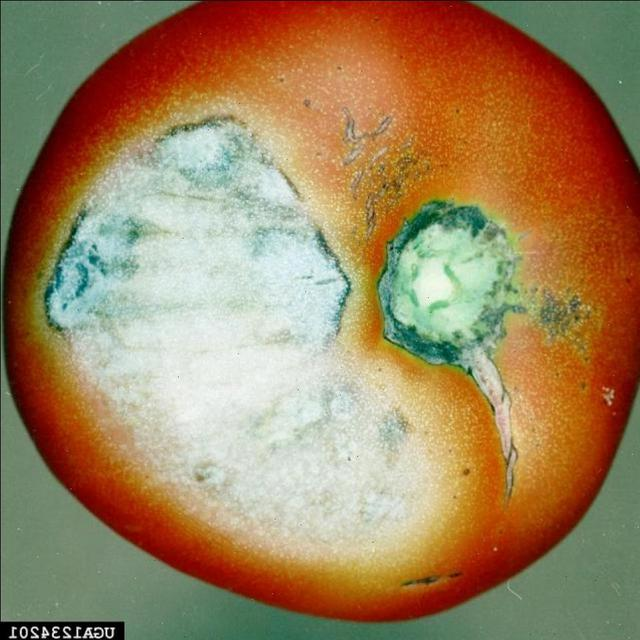Sunscald Fruit: (24, 48, 263, 389)
